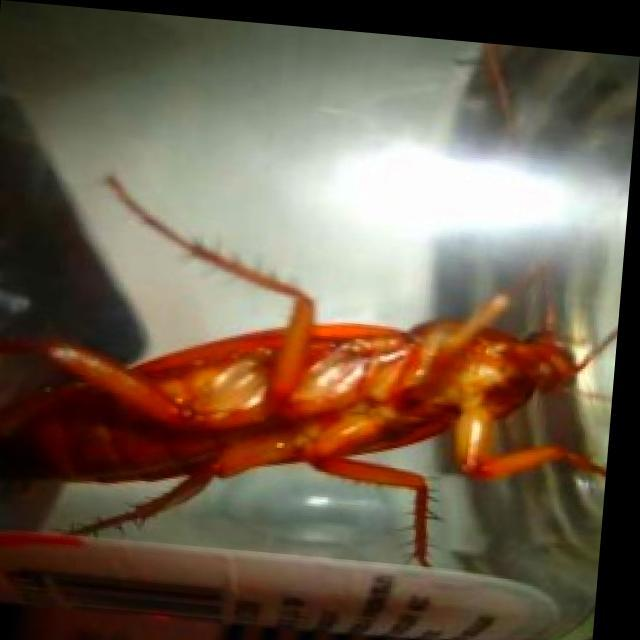cockroach: (3, 171, 613, 567)
